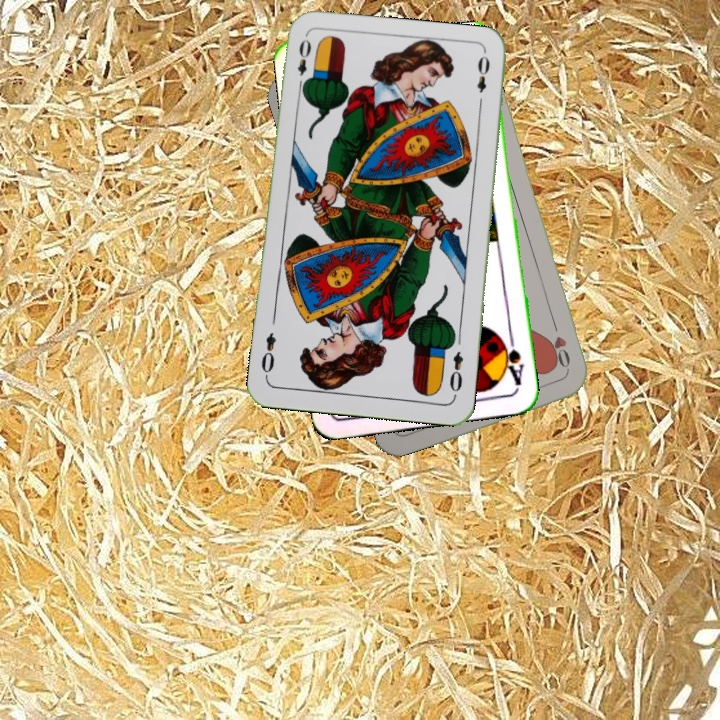EO: (293, 35, 314, 93), (445, 347, 466, 395)
HO: (547, 318, 573, 376)
SA: (497, 334, 527, 393)
